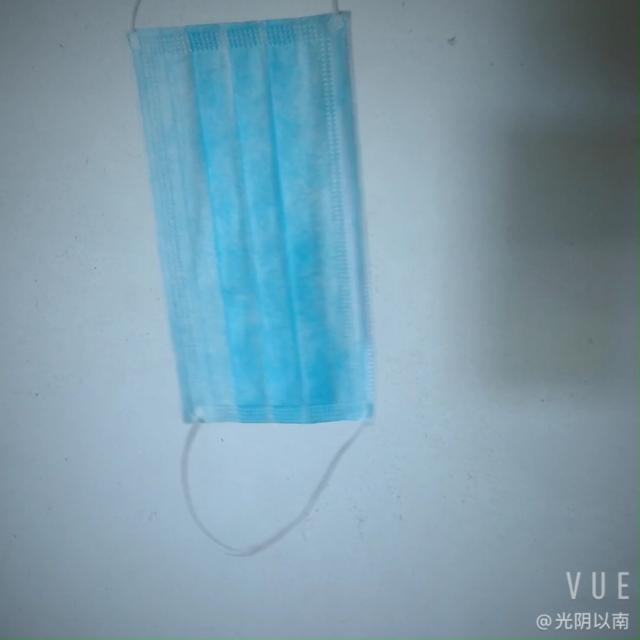non-organic waste: (121, 16, 387, 443)
